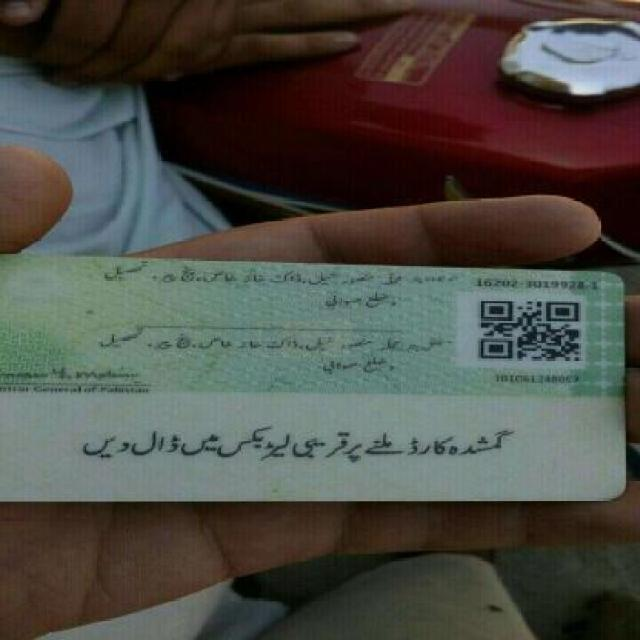Back: (3, 242, 629, 512)
